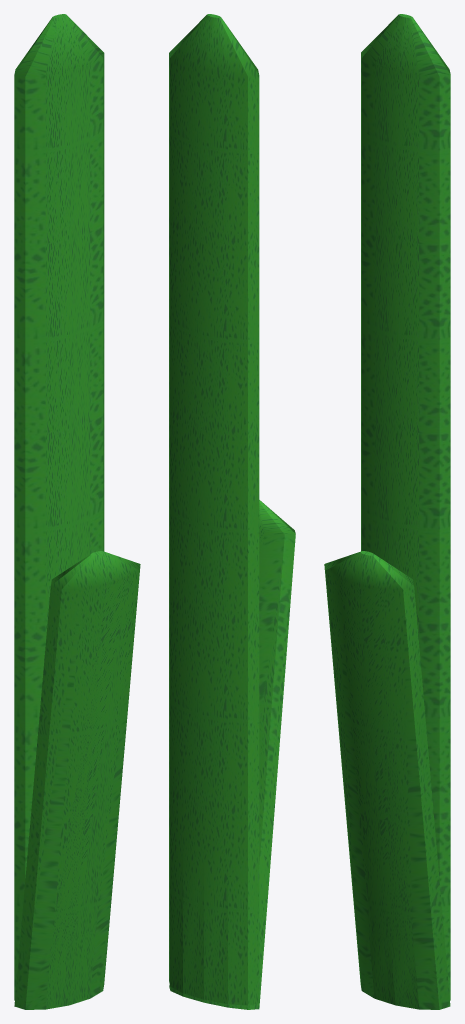
File: grass-2.fbx
The picture shows the model from 3 angles, left to right: view 1: azimuth 30°, elevation 25°; view 2: azimuth 150°, elevation 25°; view 3: azimuth 330°, elevation 25°; orthographic projection.
Visible parts, largest first — view 1: pCylinder9; view 2: pCylinder9; view 3: pCylinder9.
Boxes of the visible parts, <box> form: pCylinder9: <box>14,14,140,1009</box>; pCylinder9: <box>169,14,295,1009</box>; pCylinder9: <box>324,14,450,1009</box>.
Bounding box in the file's own units: 1.24 × 12.99 × 1.35.
1 material, 1 textured.
